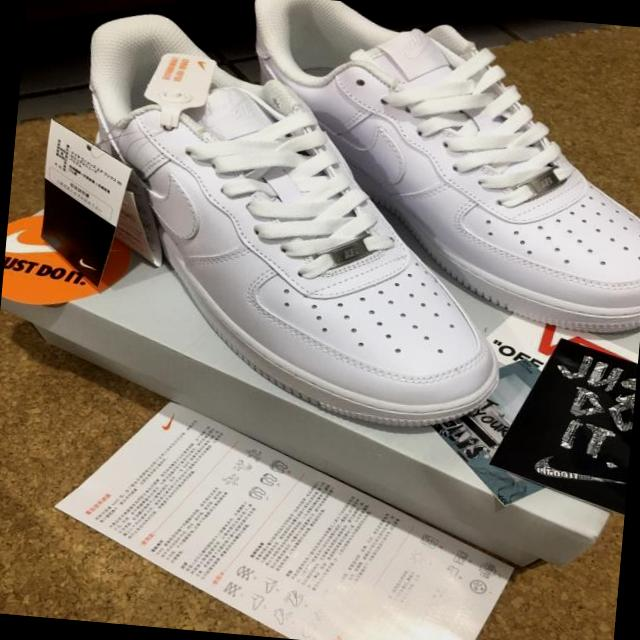nike_original_airforce: (56, 2, 556, 437), (223, 0, 640, 341)
